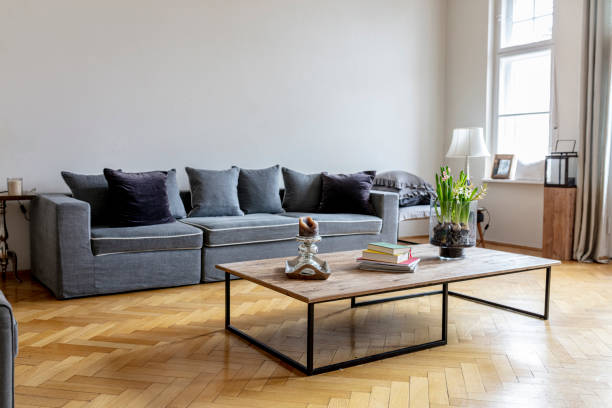flower vase: (430, 163, 483, 261)
sofa: (31, 164, 402, 300)
table: (214, 241, 564, 374)
table lamp: (444, 122, 492, 184)
